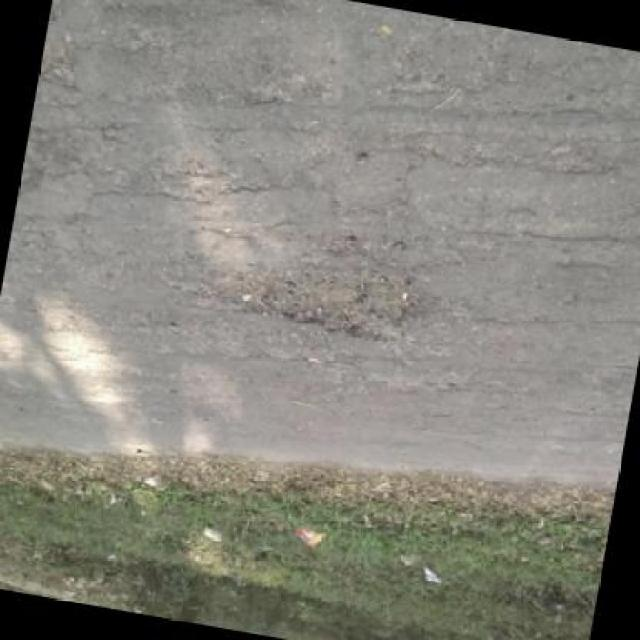pothole: (203, 231, 437, 351)
